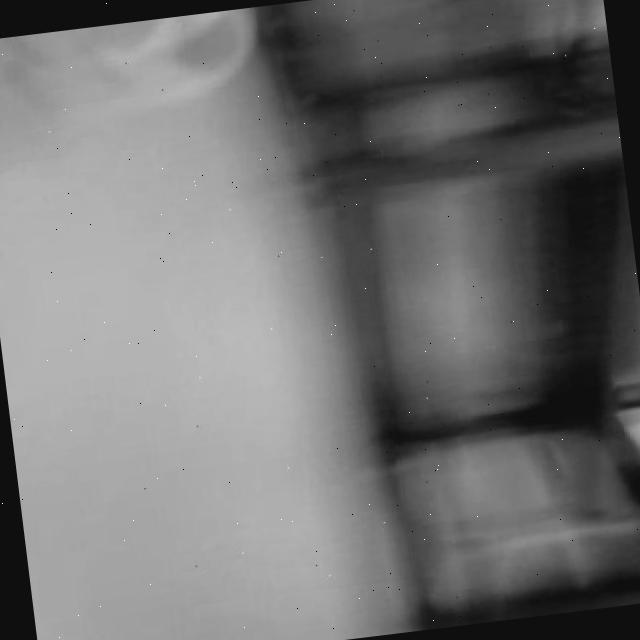ping-pong-ball: (0, 4, 277, 120)
